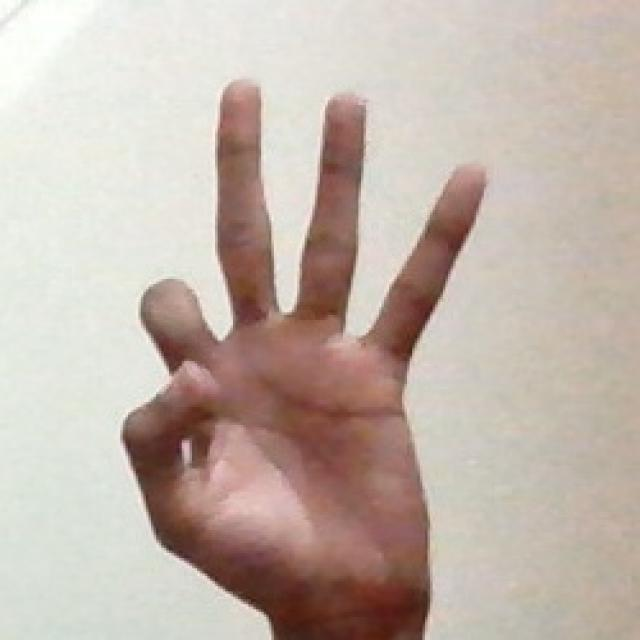Numeric-9: (120, 81, 487, 592)
